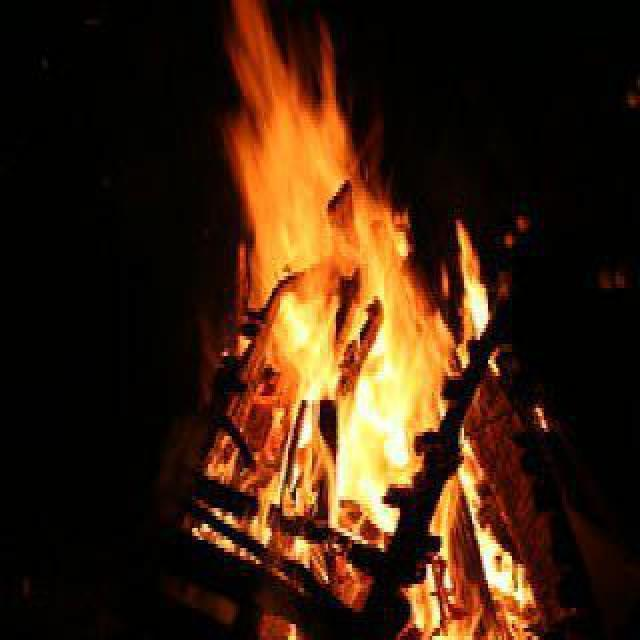Fire: (202, 6, 512, 626)
